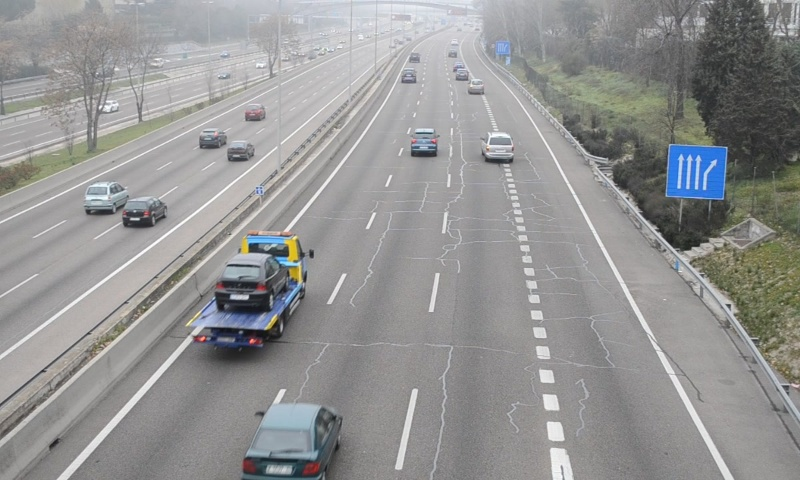car: (242, 404, 342, 478), (483, 131, 514, 161), (410, 127, 437, 155), (467, 78, 484, 95), (400, 66, 415, 82)
small-truck: (187, 232, 307, 346)
